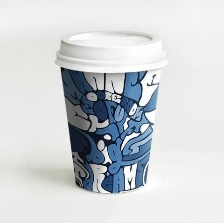paper_cup: (49, 24, 172, 198)
